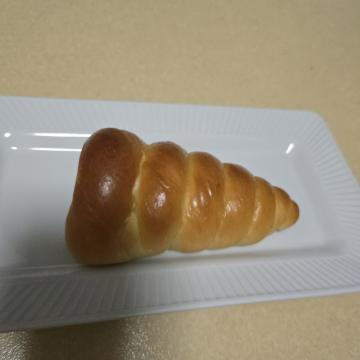cream horn: (112, 52, 294, 310)
